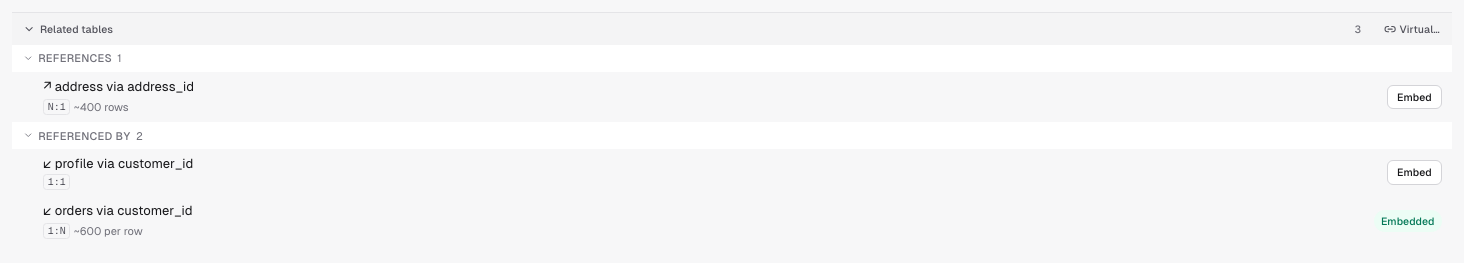
Test: RelatedTree › OC-157 AC1/AC3: References and Referenced by, each with cardinality chips
Check: the button "Related tables 3" is shown, box top-left (12, 13), bottom-right (1372, 44)
Check: the text named "many-to-one" reads "N:1", box top-left (48, 100), bottom-right (66, 113)
Groups close and open on their own.
Click the button "Referenced by 2": [84, 136] box top-left (12, 122), bottom-right (1452, 149)
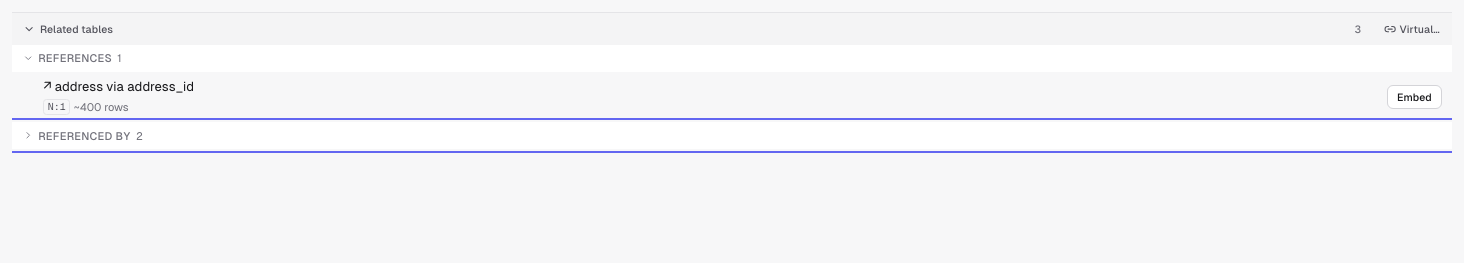
Check: the number of list items is 1, box top-left (12, 72), bottom-right (1452, 122)
Check: no the list item "↙ profile via customer_id 1:1 Embed" are shown
